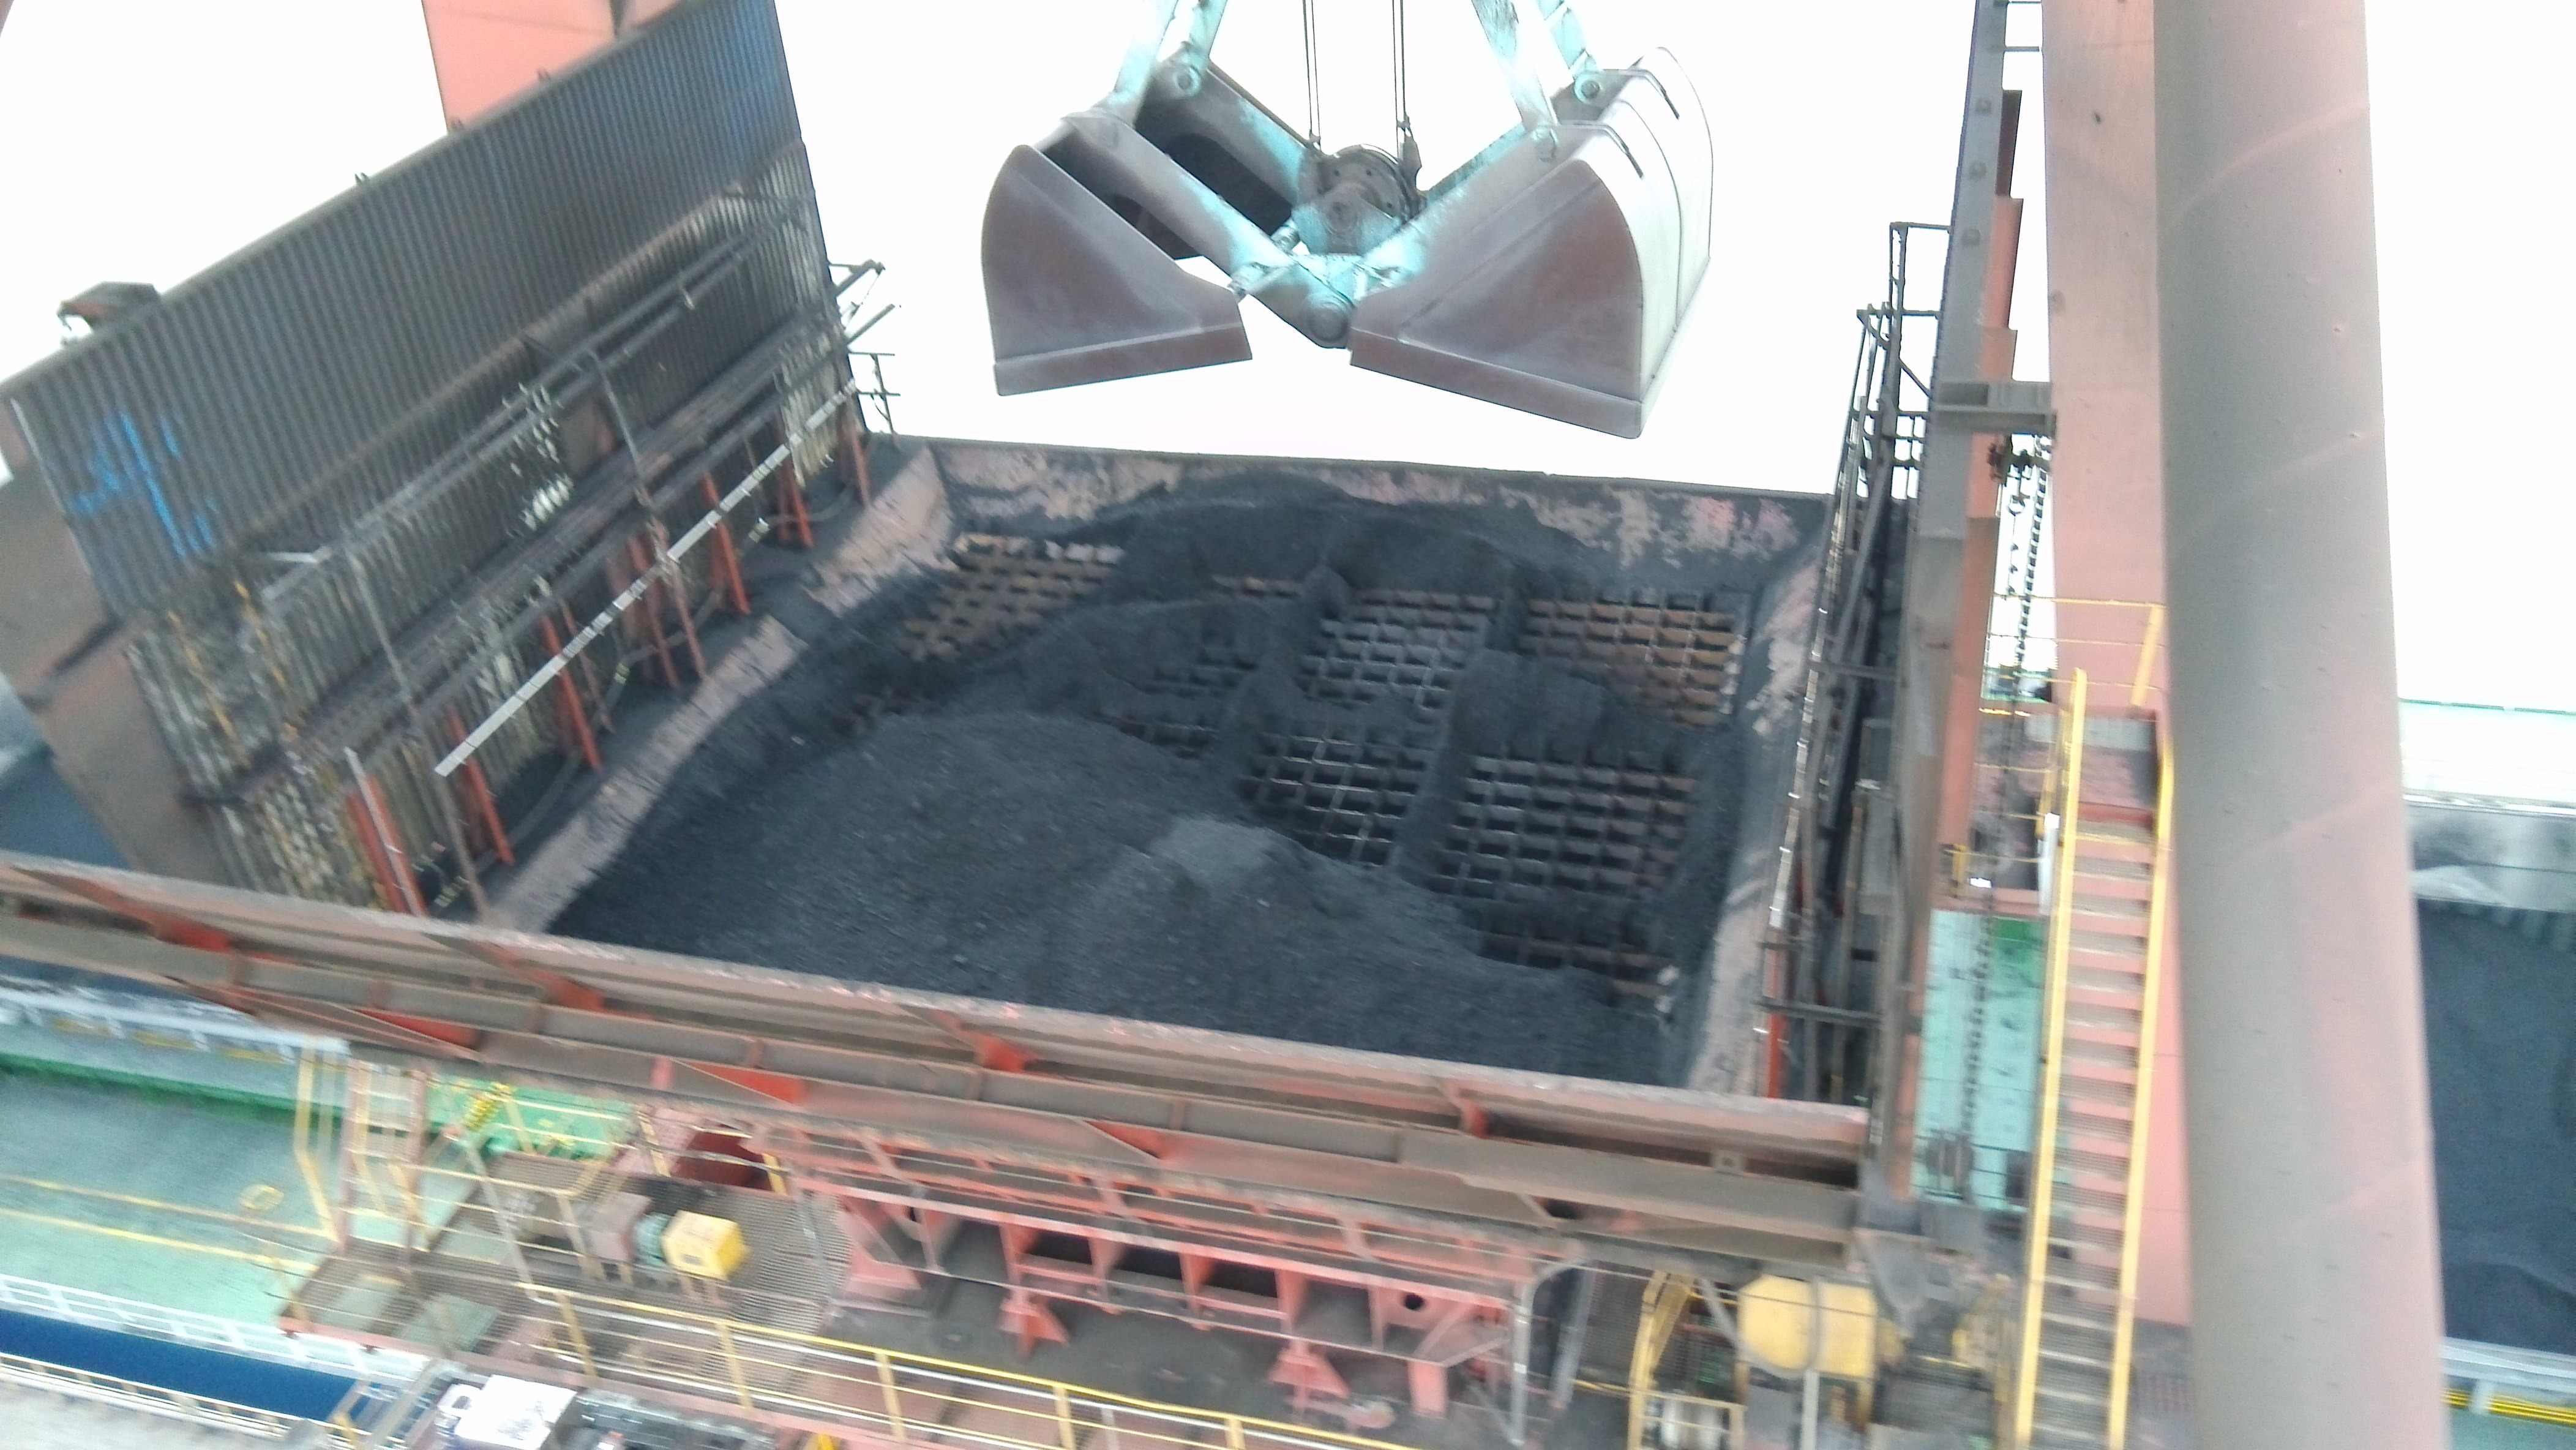grab: (961, 0, 1757, 451)
